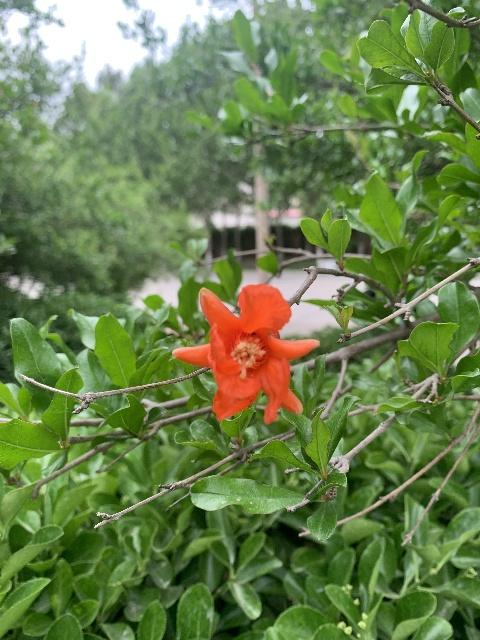flower: (171, 283, 320, 424)
